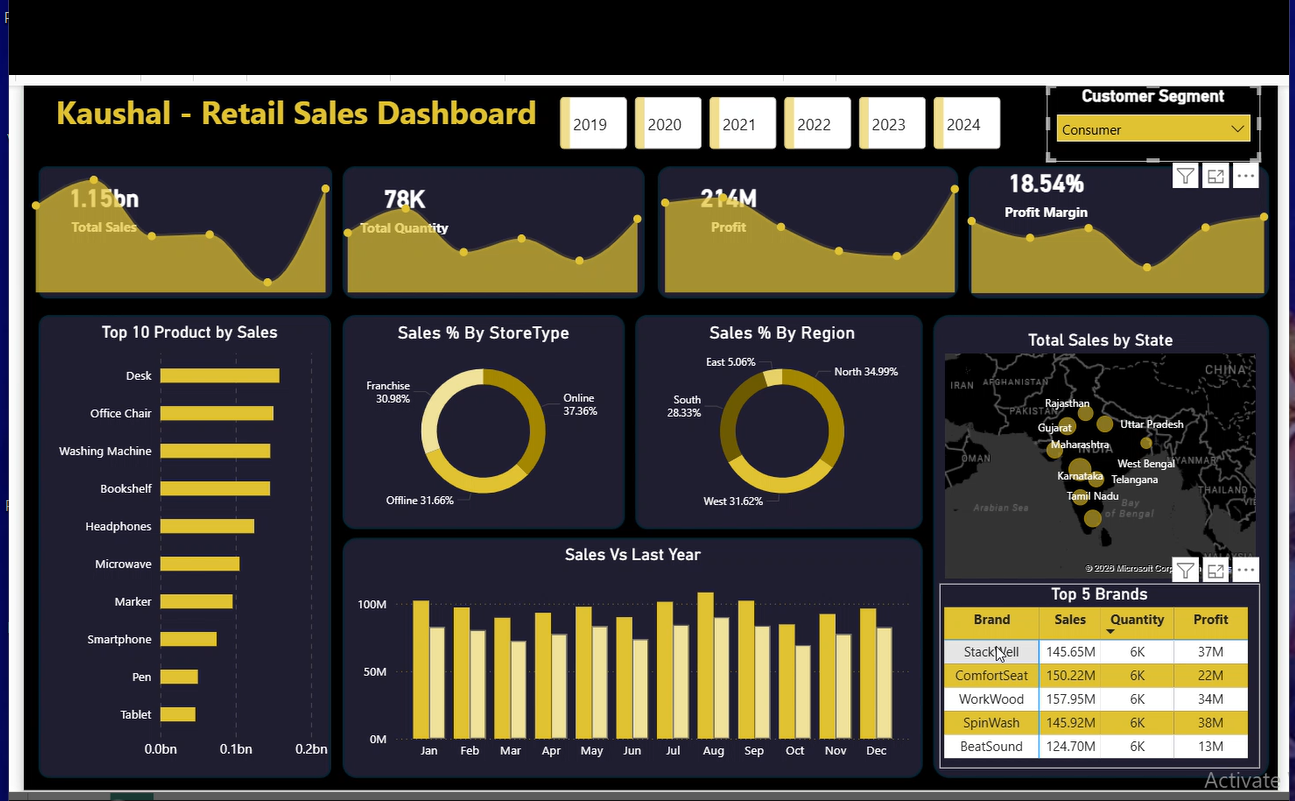

Layout of this report page (visuals, bound fields, positions):
{"tool":"powerbi","page":{"name":"Page 1","canvas":[1280,720],"ordinal":0},"visuals":[{"type":"textbox","box":[15.1,0,528.3,63.1],"z":0},{"type":"card","fields":{"Values":["1_measure.Total Sales"]},"box":[26.1,89.9,117.4,65.2],"z":1000},{"type":"card","fields":{"Values":["1_measure.Total Quantity"]},"box":[336.2,91.3,107.2,65.2],"z":2000},{"type":"card","fields":{"Values":["1_measure.Profit"]},"box":[655.1,89.9,130.4,65.2],"z":3000},{"type":"card","fields":{"Values":["1_measure.Profit Margin"]},"box":[965.2,63.8,155.1,88.4],"z":4000},{"type":"areaChart","fields":{"Category":["Calendar Table.Year"],"Y":["1_measure.Total Sales"]},"box":[0,78.3,324.6,137.7],"z":5000},{"type":"areaChart","fields":{"Category":["Calendar Table.Year"]},"box":[317.4,78.3,324.6,137.7],"z":6000},{"type":"areaChart","fields":{"Category":["Calendar Table.Year"],"Y":["1_measure.Profit"]},"box":[640.6,78.3,324.6,137.7],"z":7000},{"type":"areaChart","fields":{"Category":["Calendar Table.Year"],"Y":["1_measure.Total Quantity"]},"box":[317.4,78.3,324.6,137.7],"z":8000},{"type":"barChart","title":"Top 10 Product by Sales","fields":{"Y":["1_measure.Total Sales"],"Category":["Dim_Product.ProductName"]},"box":[26.1,240.6,291.3,453.6],"z":9000},{"type":"areaChart","fields":{"Category":["Calendar Table.Year"],"Y":["1_measure.Profit Margin"]},"box":[952.2,108.7,327.5,107.2],"z":10000},{"type":"donutChart","title":" Sales % By StoreType","fields":{"Y":["1_measure.Total Sales"],"Category":["Dim_Store.StoreType"]},"box":[336.2,240.6,268.1,201.4],"z":11000},{"type":"donutChart","title":" Sales % By Region","fields":{"Y":["1_measure.Total Sales"],"Category":["Dim_Customer.Region"]},"box":[640.6,240.6,268.1,201.4],"z":12000},{"type":"clusteredColumnChart","title":"Sales Vs Last Year","fields":{"Category":["Calendar Table.Month Name"],"Y":["1_measure.Total Sales","1_measure.Sales LY"]},"box":[336.6,466.9,571.9,228],"z":13000},{"type":"map","fields":{"Category":["Dim_Store.State"],"Size":["1_measure.Total Sales"]},"box":[935,248.5,325.7,258.2],"z":14000},{"type":"pivotTable","title":"Top 5 Brands","fields":{"Rows":["Dim_Product.Brand"],"Values":["1_measure.Total Sales","1_measure.Total Quantity","1_measure.Profit"]},"box":[934.5,506.3,325.2,188],"z":15000},{"type":"advancedSlicerVisual","fields":{"Values":["Calendar Table.Year"]},"box":[543.4,6.9,463.8,63.1],"z":16000},{"type":"slicer","title":"Customer Segment","fields":{"Values":["Dim_Customer.Segment"]},"box":[1042.9,0,216.8,78.2],"z":17000}]}

Visuals, with their boxes on the page's 1280x720 design canvas (x1, y1, x2, y2). These are canvas units, not pixel positions in the 1295x801 screenshot, which may show the page scaled, cropped or inside an application window:
textbox: l=15, t=0, r=543, b=63
card - 1_measure.Total Sales: l=26, t=90, r=144, b=155
card - 1_measure.Total Quantity: l=336, t=91, r=443, b=156
card - 1_measure.Profit: l=655, t=90, r=786, b=155
card - 1_measure.Profit Margin: l=965, t=64, r=1120, b=152
areaChart - Calendar Table.Year x 1_measure.Total Sales: l=0, t=78, r=325, b=216
areaChart - Calendar Table.Year: l=317, t=78, r=642, b=216
areaChart - Calendar Table.Year x 1_measure.Profit: l=641, t=78, r=965, b=216
areaChart - Calendar Table.Year x 1_measure.Total Quantity: l=317, t=78, r=642, b=216
"Top 10 Product by Sales" barChart: l=26, t=241, r=317, b=694
areaChart - Calendar Table.Year x 1_measure.Profit Margin: l=952, t=109, r=1280, b=216
" Sales % By StoreType" donutChart: l=336, t=241, r=604, b=442
" Sales % By Region" donutChart: l=641, t=241, r=909, b=442
"Sales Vs Last Year" clusteredColumnChart: l=337, t=467, r=908, b=695
map - Dim_Store.State x 1_measure.Total Sales: l=935, t=248, r=1261, b=507
"Top 5 Brands" pivotTable: l=934, t=506, r=1260, b=694
advancedSlicerVisual - Calendar Table.Year: l=543, t=7, r=1007, b=70
"Customer Segment" slicer: l=1043, t=0, r=1260, b=78
